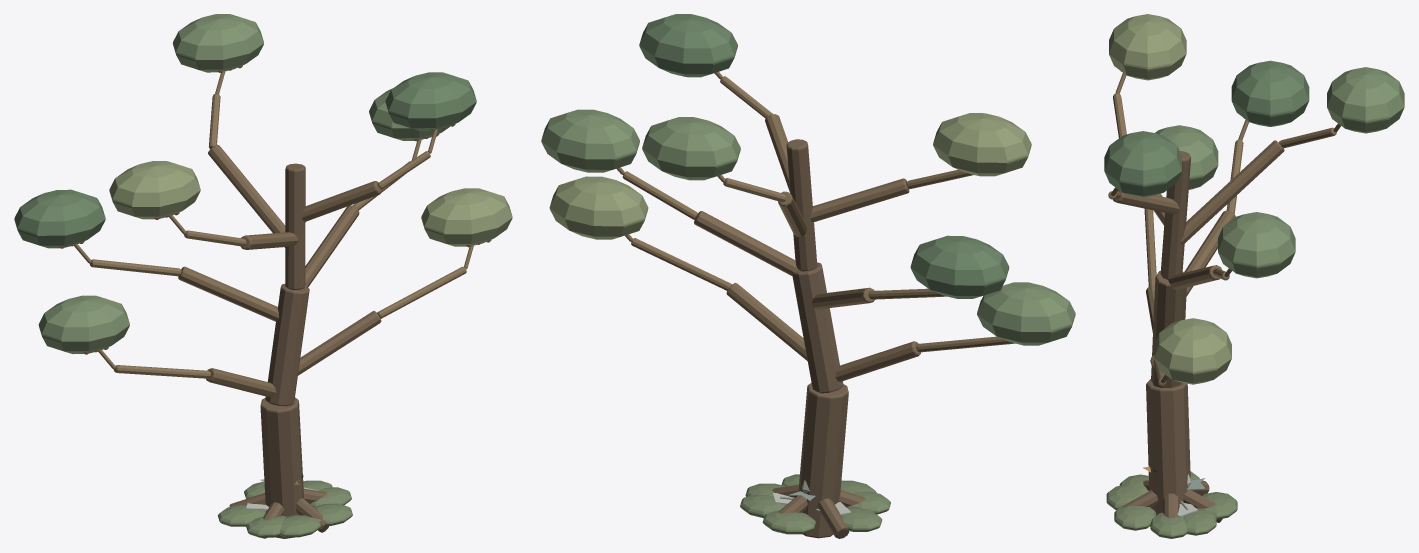
The model's file is bird-tree.glb.
The picture shows the model from 3 angles, left to right: view 1: azimuth 30°, elevation 25°; view 2: azimuth 150°, elevation 25°; view 3: azimuth 270°, elevation 25°; orthographic projection. The views are drawn at different scales.
Visible parts, largest first — view 1: discovery_Motion_Mesh; view 2: discovery_Motion_Mesh; view 3: discovery_Motion_Mesh.
Boxes of the visible parts, left/top/right/bottom form: discovery_Motion_Mesh: left=14, top=14, right=512, bottom=538; discovery_Motion_Mesh: left=541, top=14, right=1075, bottom=538; discovery_Motion_Mesh: left=1104, top=14, right=1404, bottom=538.
Bounding box in the file's own units: 6.39 × 5.66 × 3.31.
